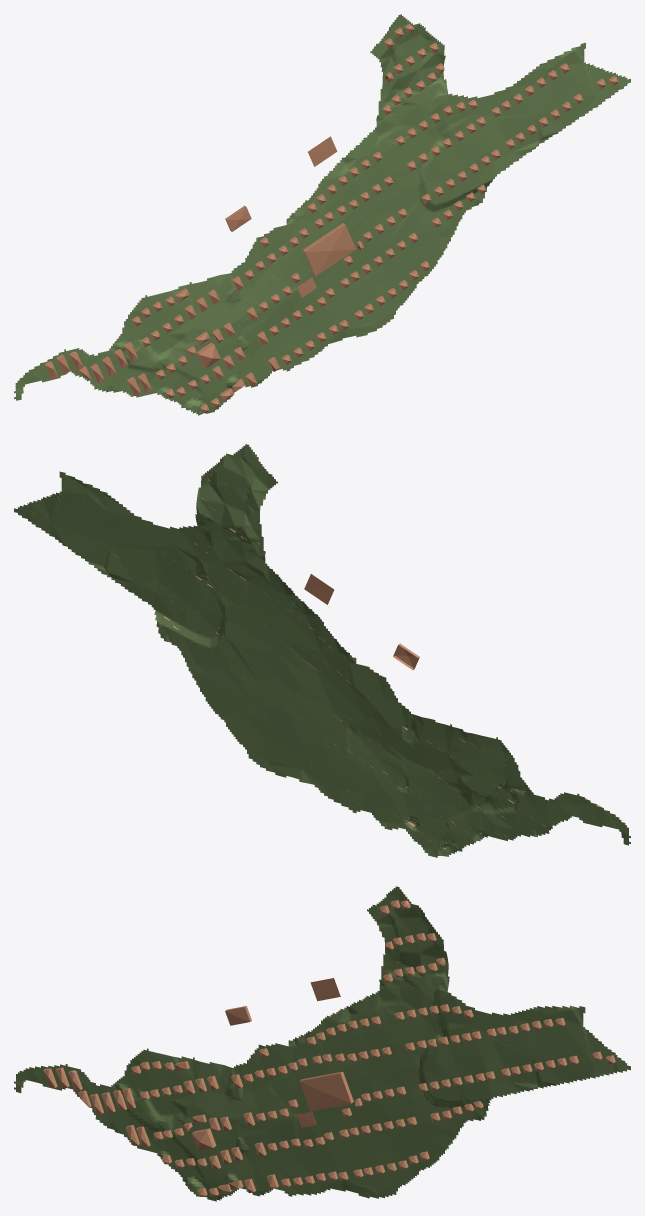
The model's file is village.obj.
3 renders of one model, top to bottom at view 1: azimuth 30°, elevation 25°; view 2: azimuth 150°, elevation 25°; view 3: azimuth 330°, elevation 25°, orthographic.
Visible parts, largest first — view 1: terrain, buildings; view 2: terrain, buildings; view 3: terrain, buildings.
Boxes of the visible parts, <box> form: terrain: <box>14,14,630,415</box>; buildings: <box>44,24,618,413</box>; terrain: <box>14,444,630,857</box>; buildings: <box>29,462,601,854</box>; terrain: <box>14,886,630,1201</box>; buildings: <box>43,900,615,1196</box>.
Size of the model in its own units: 981 by 546 by 28.47.
